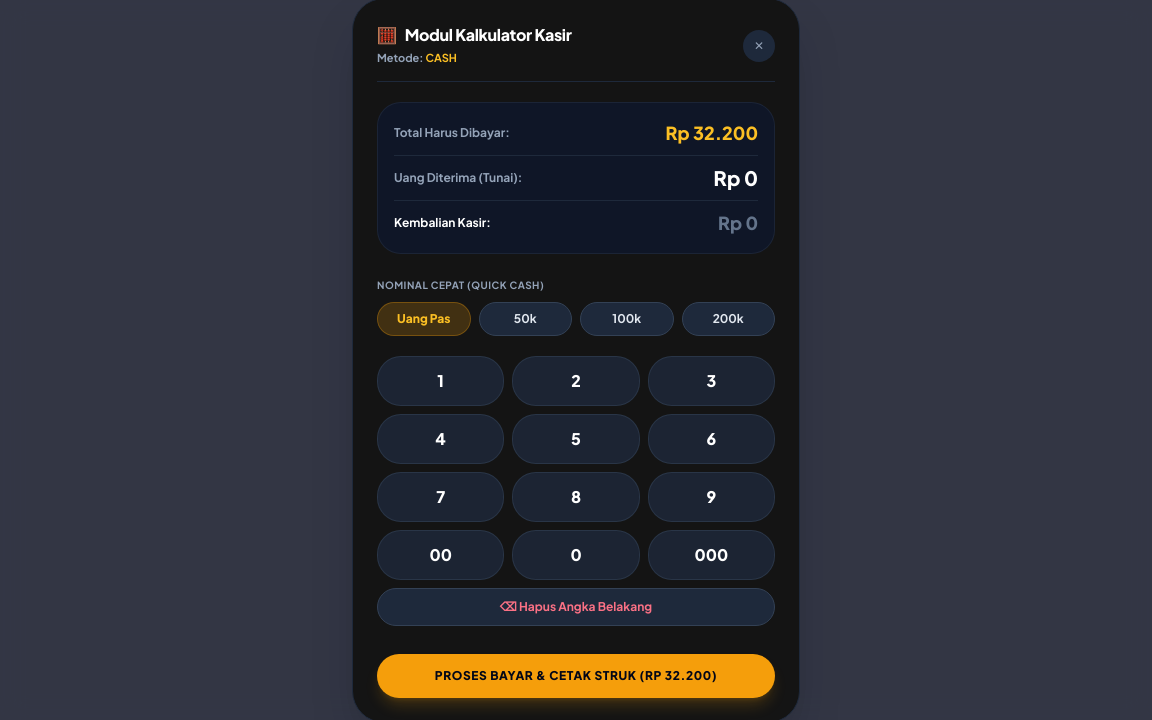
Scenario: CashierCalculatorModal › calculates change correctly when quick cash preset button is clicked
Note: Click 50k quick nominal preset
Click the button "50k" at (525, 318), box [478,302,572,336]
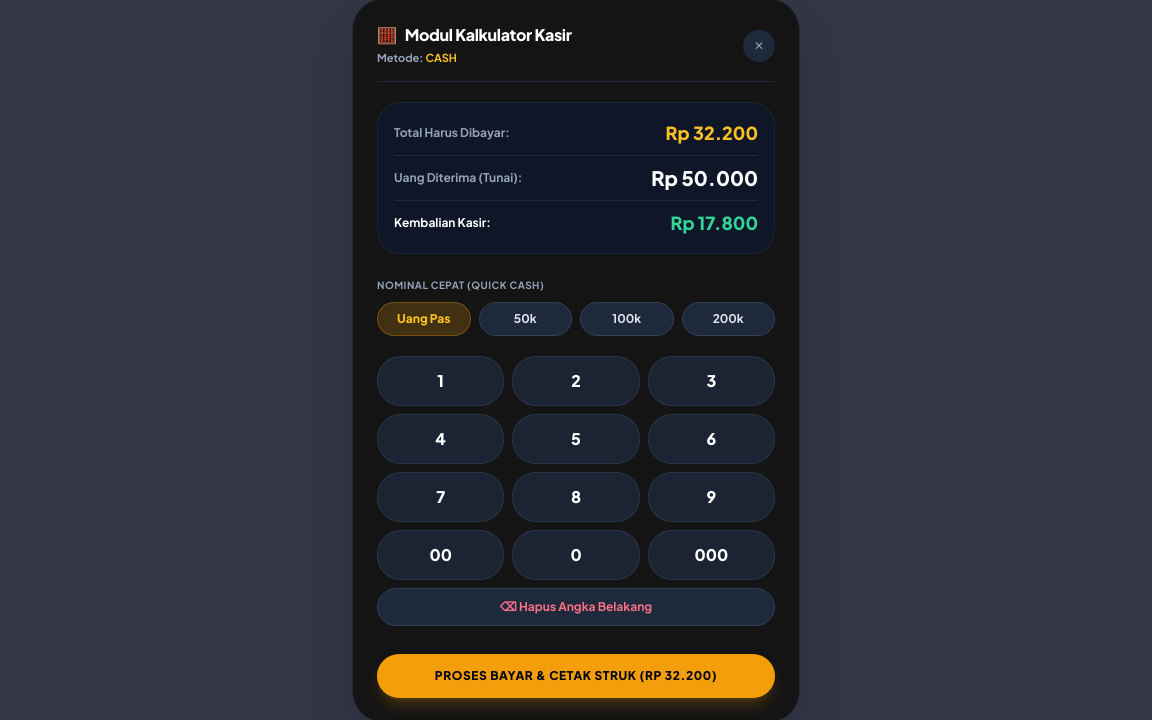
Result: the text "Rp 17.800" is shown at [670,208,758,236]
